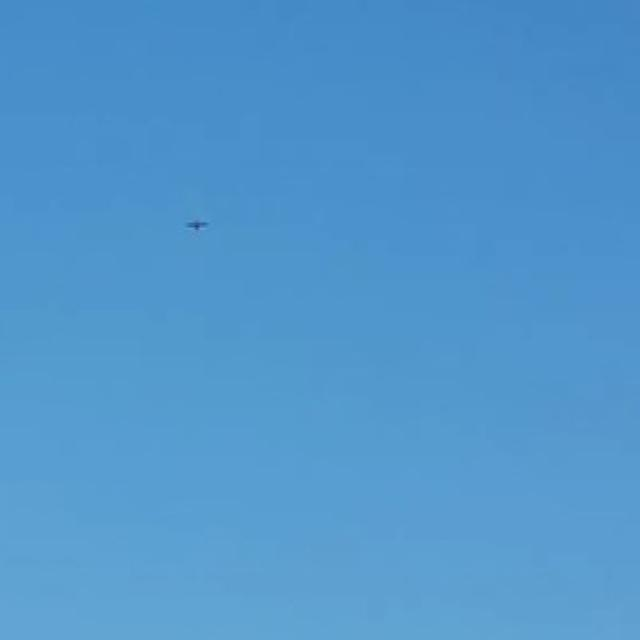iha: (185, 217, 210, 232)
